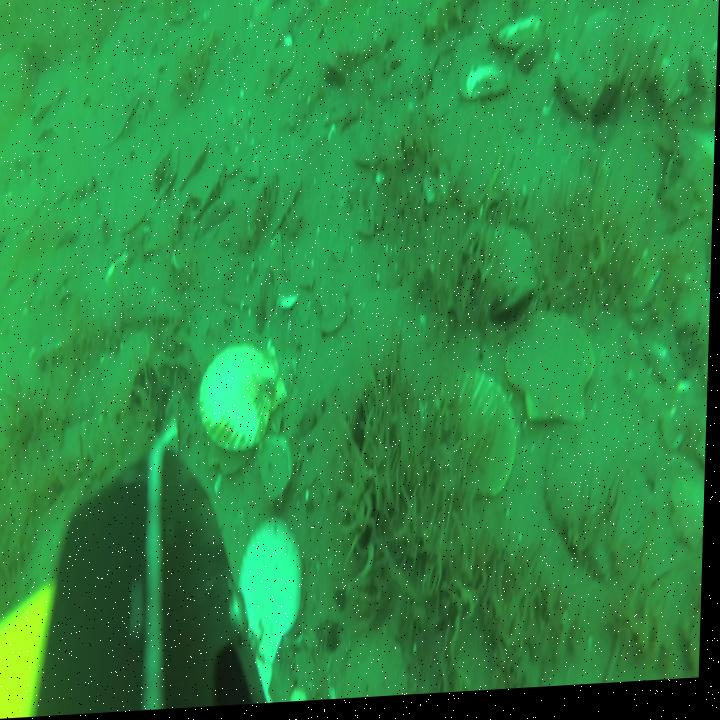holothurian: (421, 0, 493, 53)
scallop: (201, 340, 293, 477), (505, 315, 605, 438), (438, 378, 522, 513), (240, 522, 306, 676), (437, 110, 509, 212), (468, 227, 541, 321), (596, 137, 666, 233), (672, 486, 707, 564), (6, 181, 47, 234), (261, 45, 296, 95), (320, 304, 350, 343), (500, 0, 570, 13)
